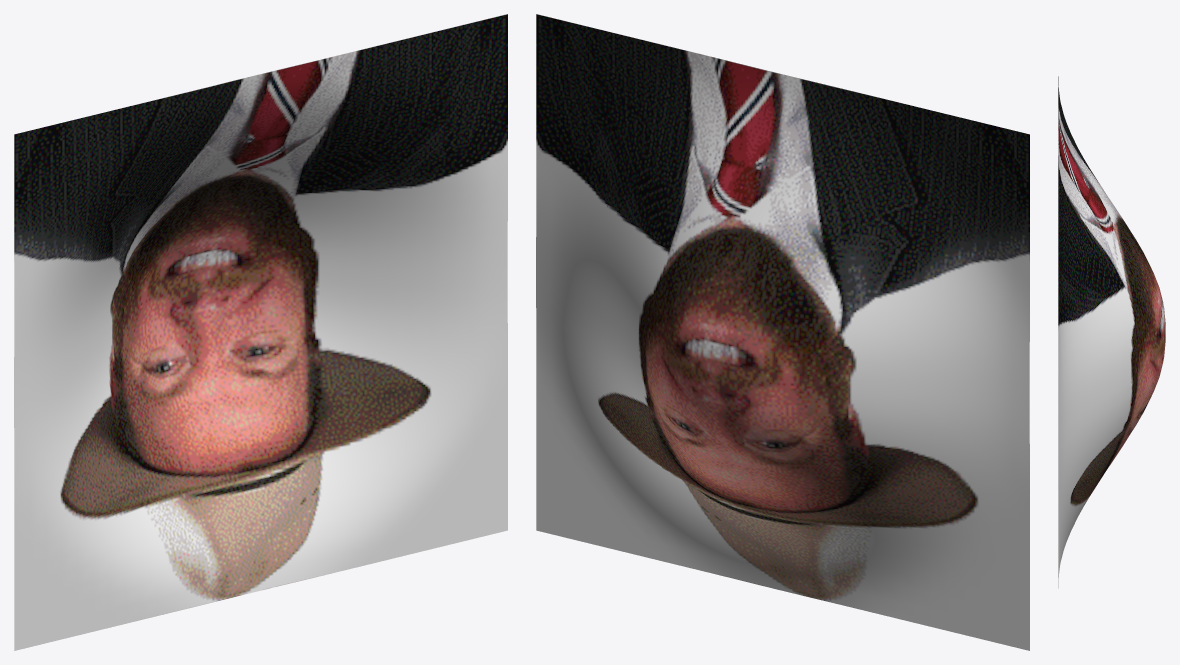
Rendered from testUV4.gltf.
3 renders of one model, left to right at view 1: azimuth 30°, elevation 25°; view 2: azimuth 150°, elevation 25°; view 3: azimuth 270°, elevation 25°, orthographic. The views are drawn at different scales.
Parts seen in each view (by area): view 1: Plane; view 2: Plane; view 3: Plane.
Boxes of the visible parts, x1,y1,x2,y2 form: Plane: (14, 14, 507, 650); Plane: (536, 14, 1029, 650); Plane: (1058, 76, 1165, 588).
Size of the model in its own units: 2 by 2 by 0.4466.
Materials: 1 (1 with a texture image).
